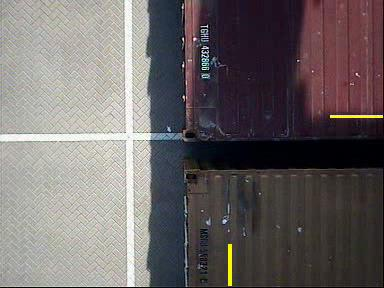groundmarker_2: (139, 147, 196, 182)
